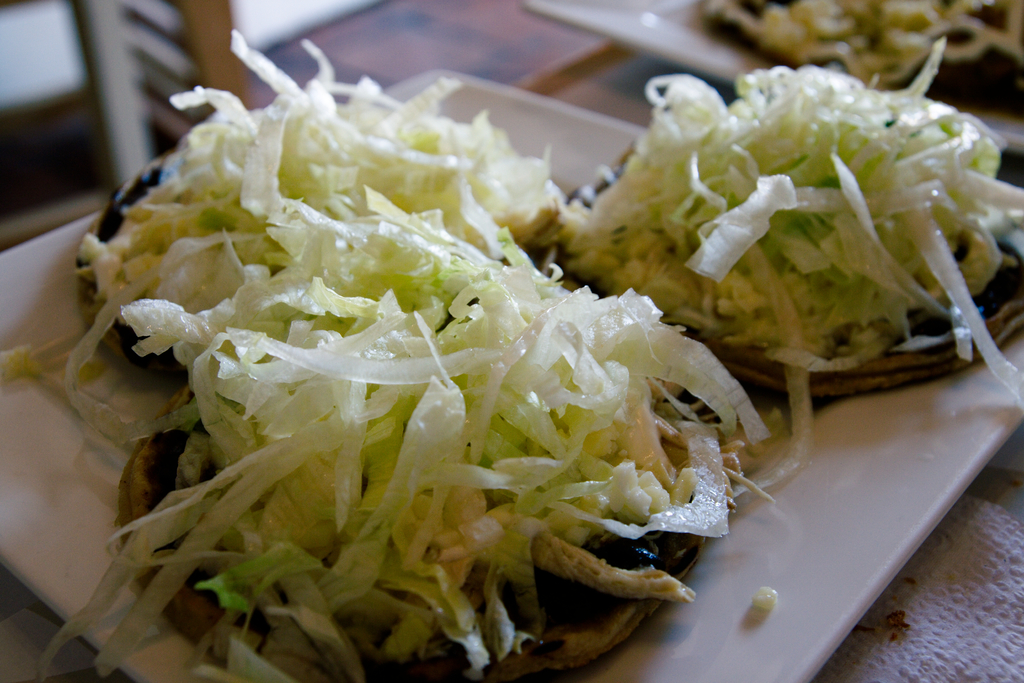Cabbage: (0, 0, 1022, 683)
